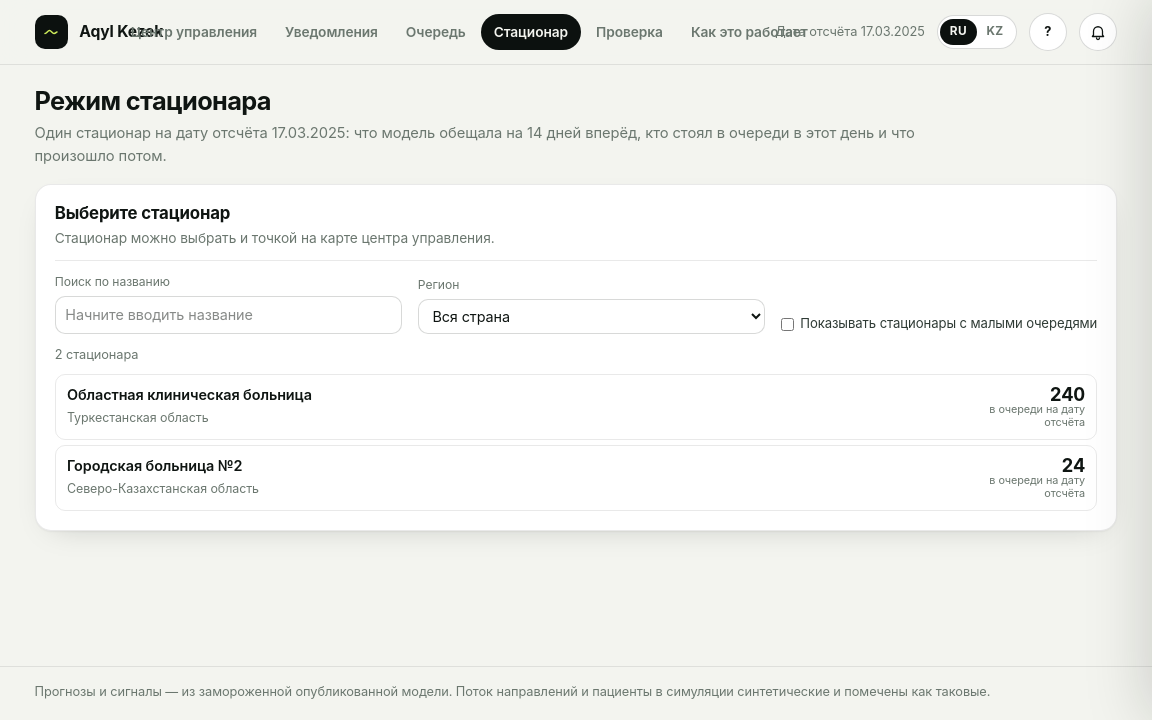
Scenario: Hospital mode › the picker lists hospitals with a real queue and hides the thin ones behind a choice
Expected: the heading "Режим стационара" is shown, [34,85,271,116]
Expected: the text "Областная клиническая больница" is shown, [67,386,312,403]
Click the checkbox labelled "Показывать стационары с малыми очередями" at (787, 324), box [781,318,794,331]
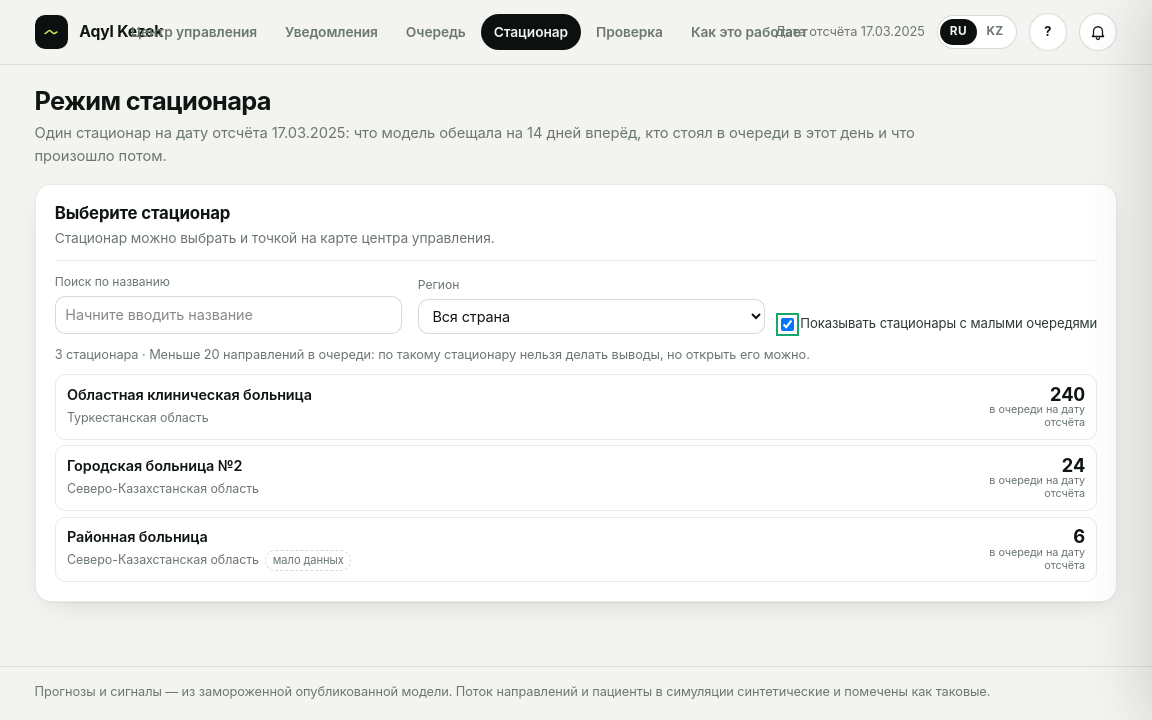
Expected: the text "Районная больница" is shown, [67,528,208,545]
Expected: the text "мало данных" is shown, [265,550,351,571]
